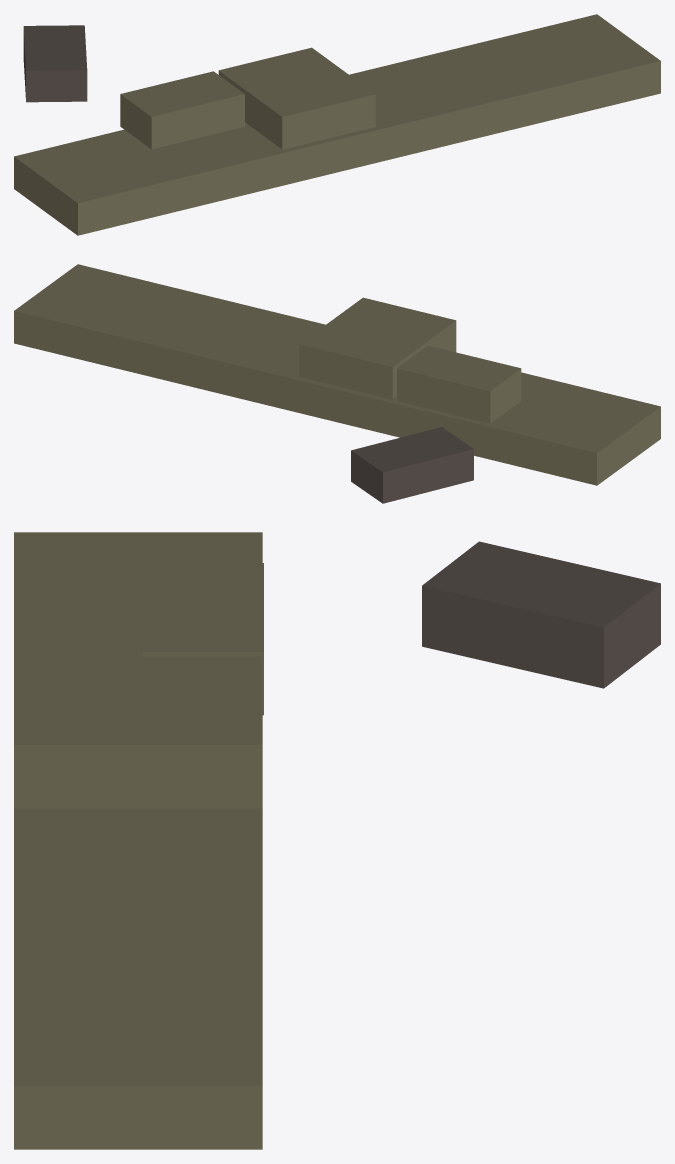
Rendered from SM_PretilTramo_v1_Talud_e2_MuyDanado_LOD1.fbx.
3 renders of one model, top to bottom at view 1: azimuth 30°, elevation 25°; view 2: azimuth 150°, elevation 25°; view 3: azimuth 270°, elevation 25°, orthographic. The views are drawn at different scales.
Visible parts, largest first — view 1: SM_pretil_azotea_v6_LOD1; view 2: SM_pretil_azotea_v6_LOD1; view 3: SM_pretil_azotea_v6_LOD1.
Part boxes in pixels (x1,y1,x2,y2): SM_pretil_azotea_v6_LOD1: (14,14,660,235); SM_pretil_azotea_v6_LOD1: (14,264,660,503); SM_pretil_azotea_v6_LOD1: (14,532,660,1149).
Bounding box in the file's own units: 5.06 × 0.57 × 2.5.
